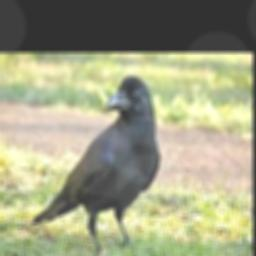Crow: (31, 74, 159, 253)
